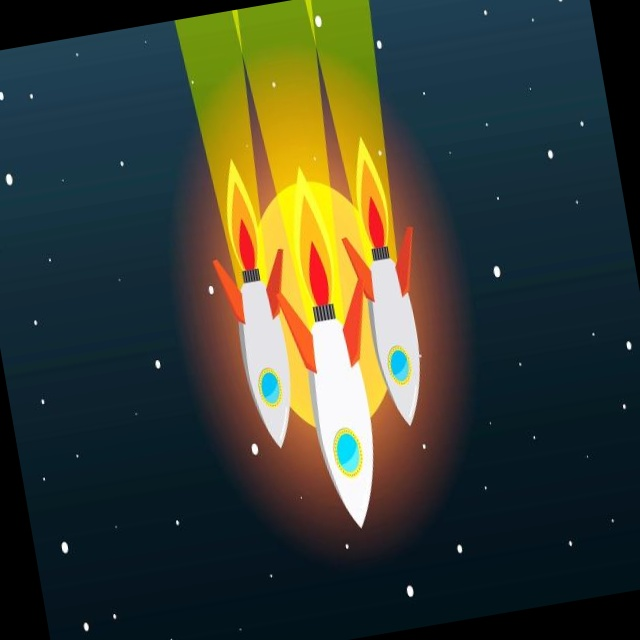medium_debris: (277, 165, 345, 323), (343, 133, 398, 260), (213, 155, 267, 279)
rocket: (274, 260, 402, 540), (211, 243, 316, 469), (342, 219, 444, 431)
